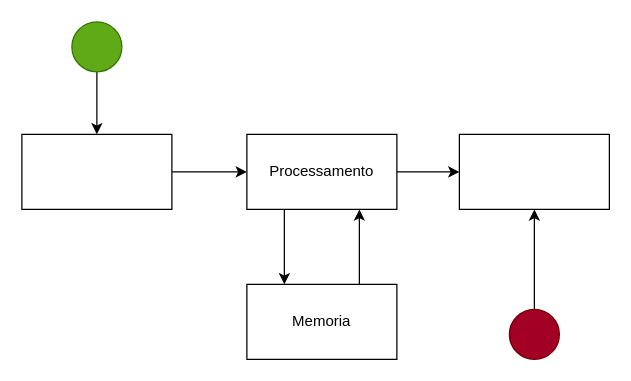
This 631x381 diagram has some shape labels left out. The box of each missing label's shape, as (x1, y1, x2, y2) in pixels:
Entrada: (21, 133, 172, 209)
Saida: (458, 133, 609, 209)
